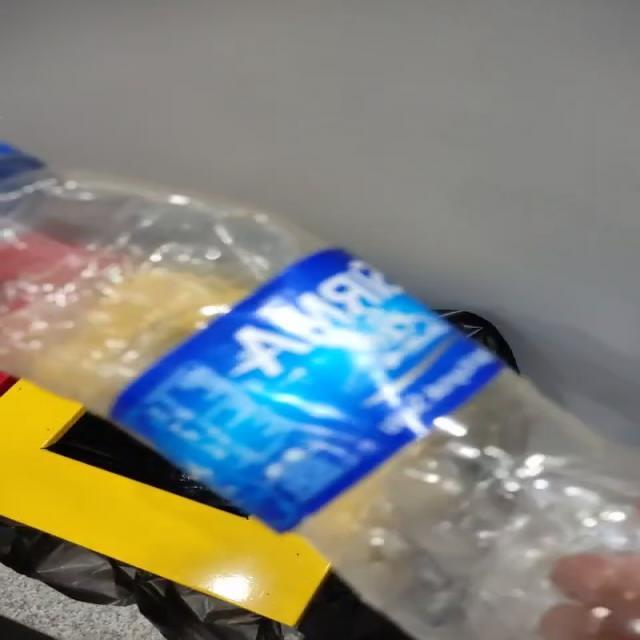Plastic: (0, 148, 639, 640)
